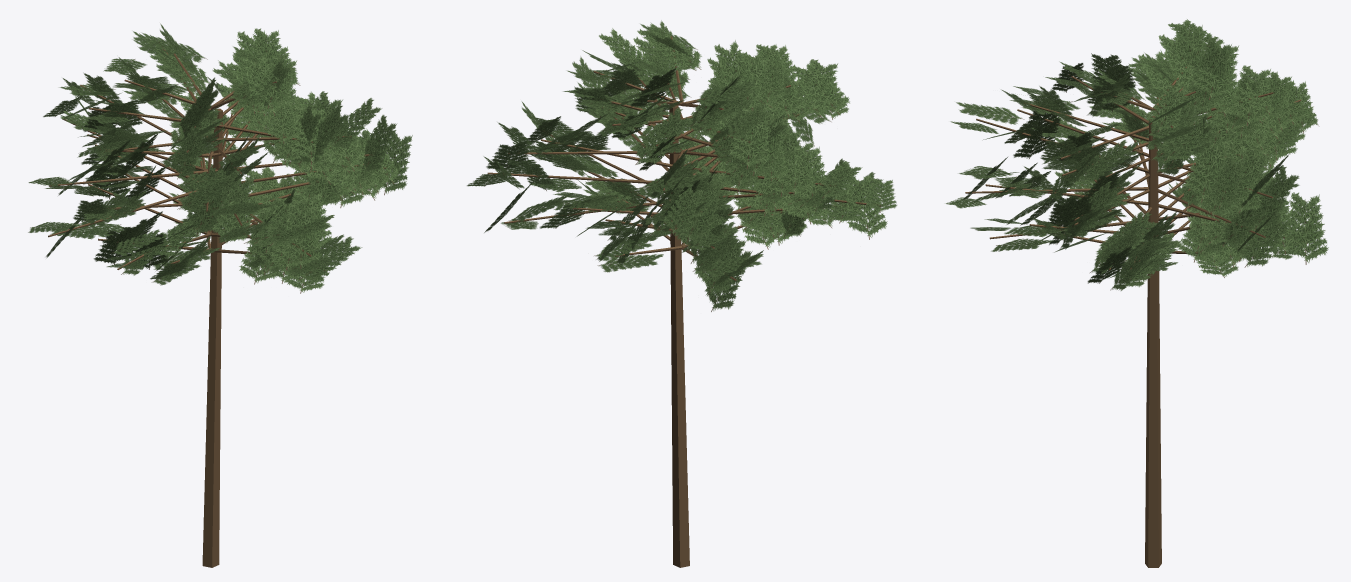
The model's file is pine_near.glb.
The picture shows the model from 3 angles, left to right: view 1: azimuth 30°, elevation 25°; view 2: azimuth 150°, elevation 25°; view 3: azimuth 270°, elevation 25°; orthographic projection.
Visible parts, largest first — view 1: pine_near; view 2: pine_near; view 3: pine_near.
Part boxes in pixels (x1,y1,x2,y2): pine_near: (28, 23, 412, 567); pine_near: (467, 20, 896, 567); pine_near: (946, 19, 1328, 567).
Size of the model in its own units: 8.69 by 10.84 by 7.68.
2 materials, 1 textured.
